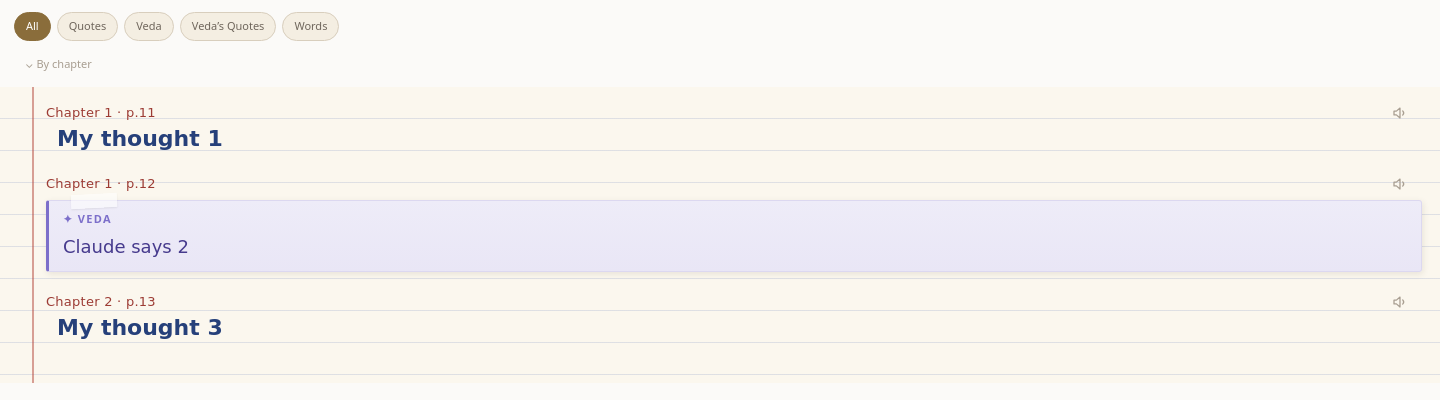
Scenario: arranging by chapter › is not offered over the kept words, which belong to no chapter
The width and height of the screenshot is (1440, 400).
Click the radio button labelled "Words" at point(311, 26), box [282,12,339,40]
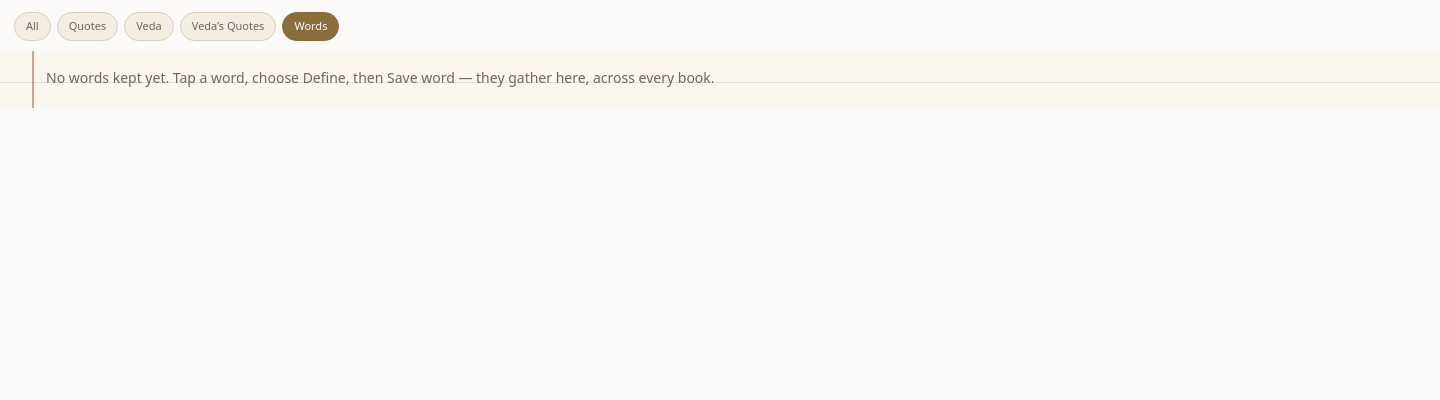
Result: the button "By chapter" is gone
